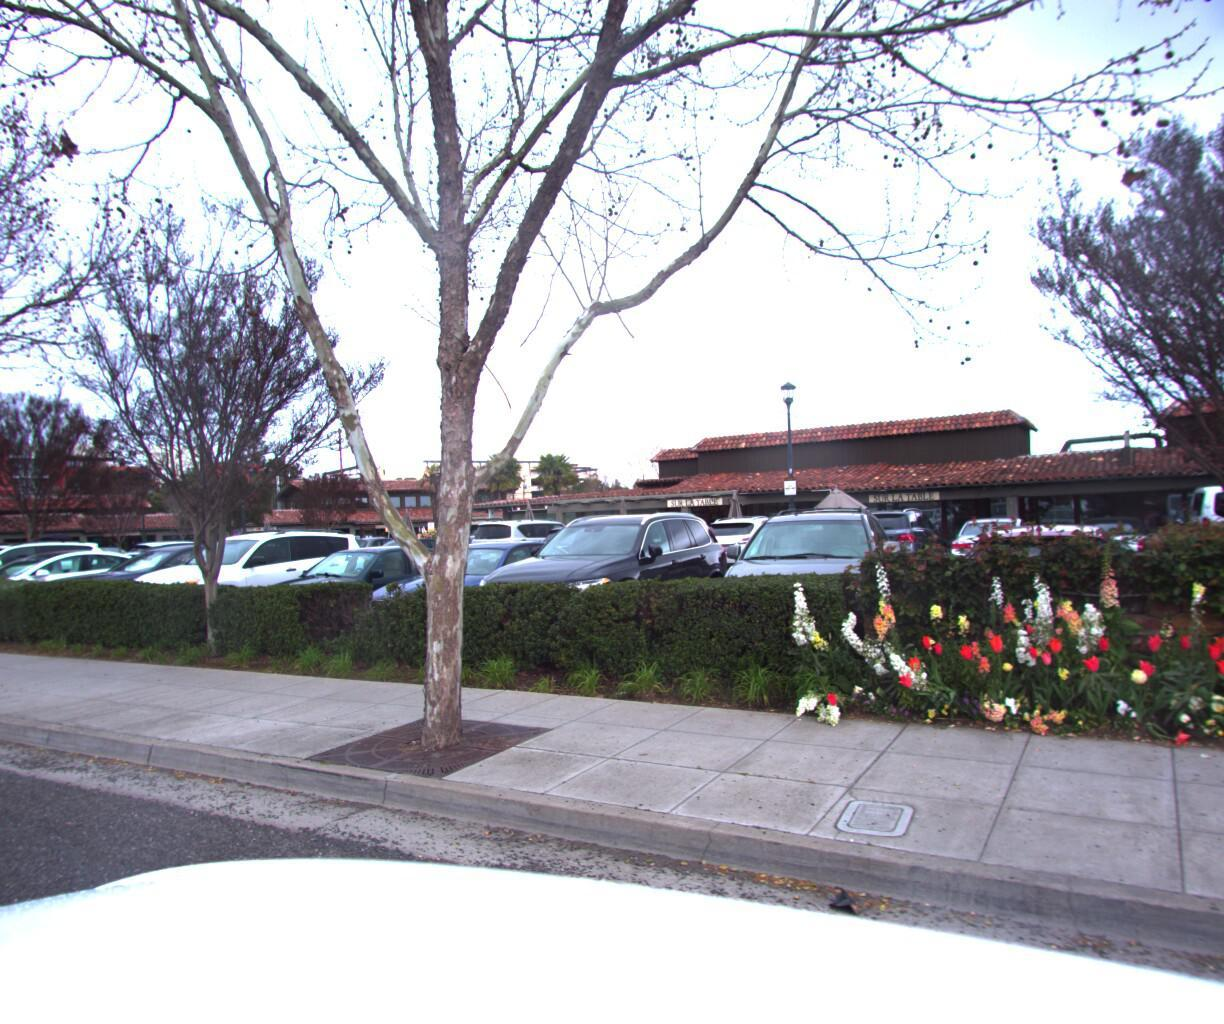car: (454, 506, 740, 664), (701, 497, 910, 671), (109, 521, 382, 640), (340, 530, 609, 650), (947, 513, 1143, 677), (45, 535, 316, 631), (248, 536, 497, 640)
